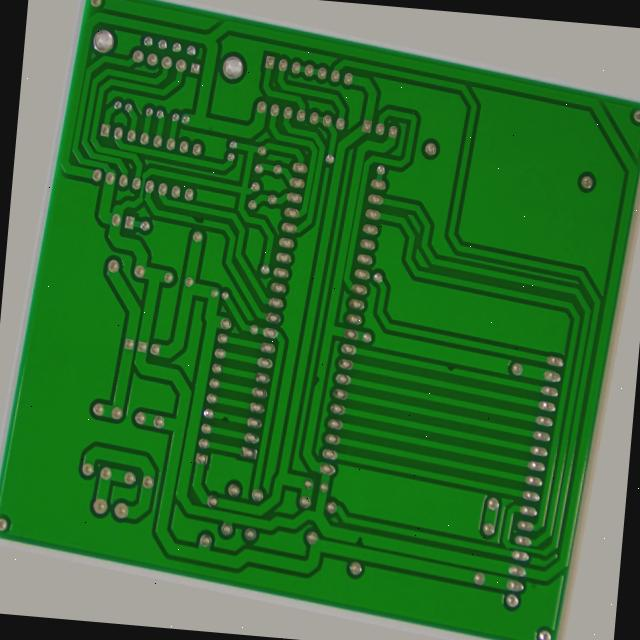mouse_bite: (167, 217, 188, 233), (315, 376, 328, 399), (456, 349, 474, 365), (375, 551, 391, 565), (217, 435, 233, 449)
